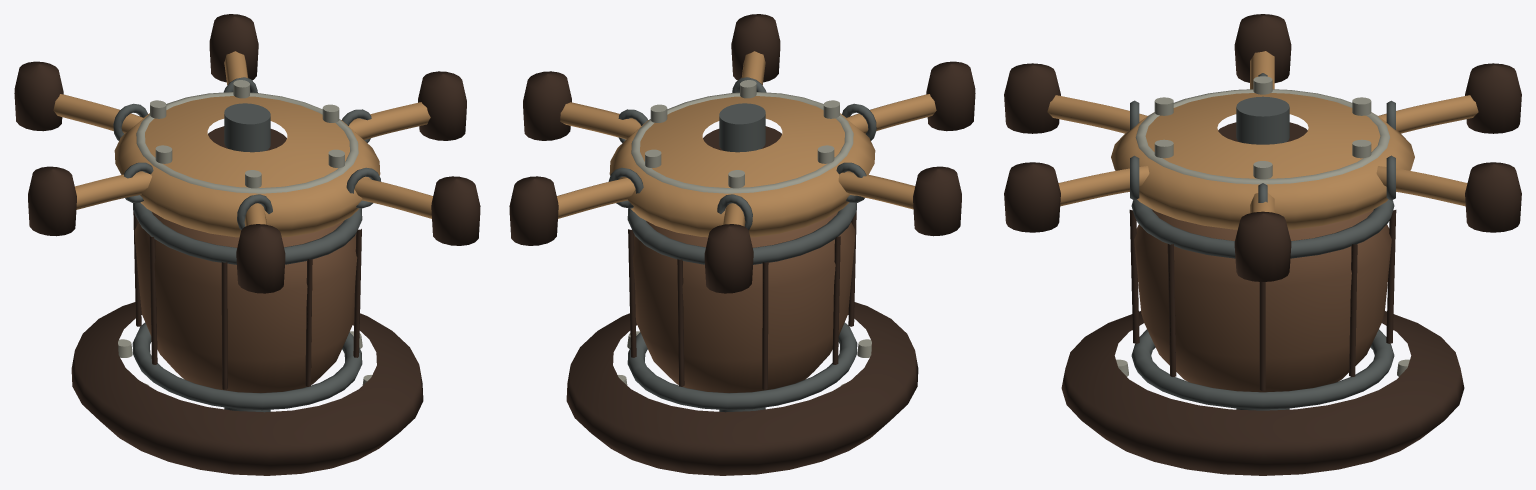
File: extra_capstan.glb
3 views of the same model, side by side, from view 1: azimuth 30°, elevation 25°; view 2: azimuth 150°, elevation 25°; view 3: azimuth 270°, elevation 25° (orthographic). The views are drawn at different scales.
Visible parts, largest first — view 1: wood, metal; view 2: wood, metal; view 3: wood, metal.
Boxes of the visible parts, x1,y1,x2,y2 form: wood: [14, 14, 480, 475]; metal: [113, 77, 381, 412]; wood: [509, 14, 975, 475]; metal: [608, 77, 876, 412]; wood: [1004, 14, 1521, 475]; metal: [1116, 73, 1409, 410].
Bounding box in the file's own units: 1.4 × 1 × 1.4.
